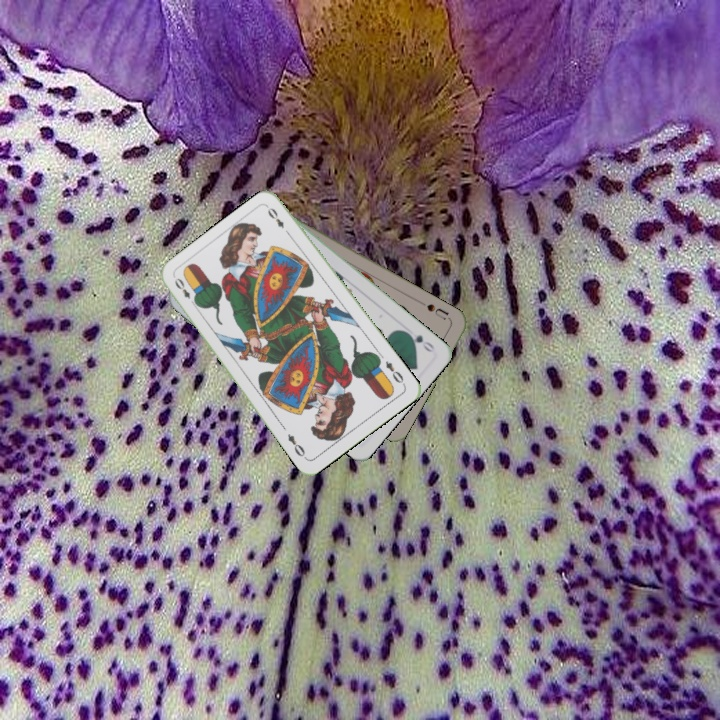EO: (170, 274, 199, 309), (381, 357, 408, 388)
GO: (401, 327, 437, 355)
SU: (417, 299, 454, 323)
